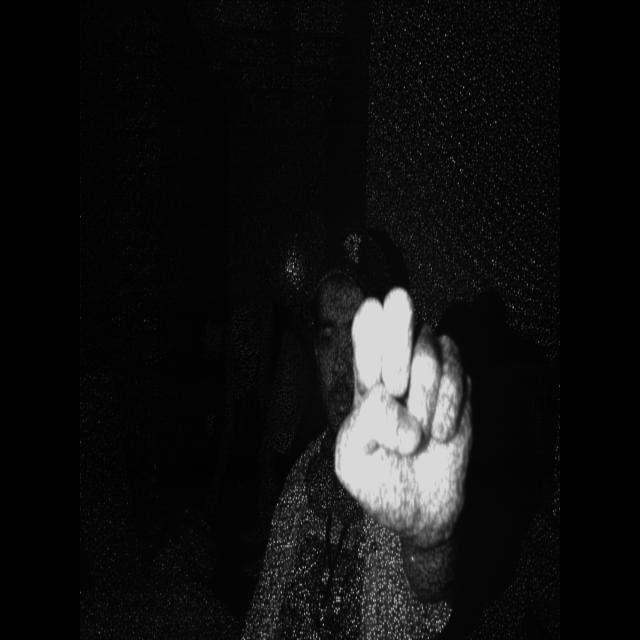S: (325, 266, 488, 550)
